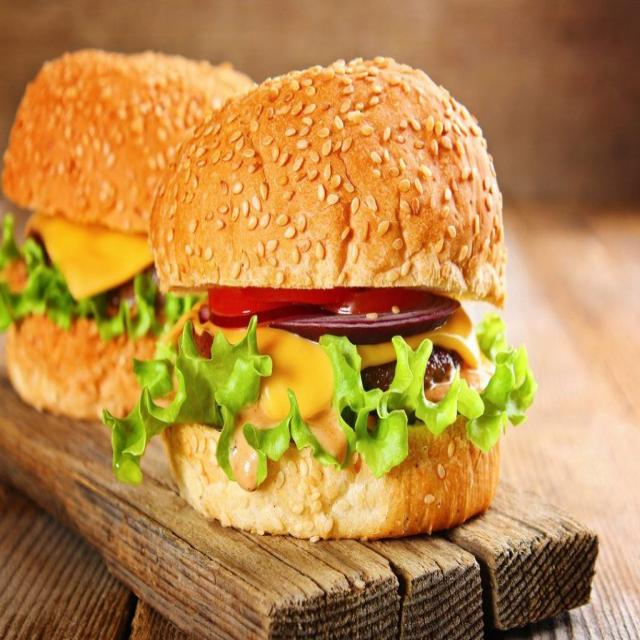burger: (99, 61, 549, 562)
